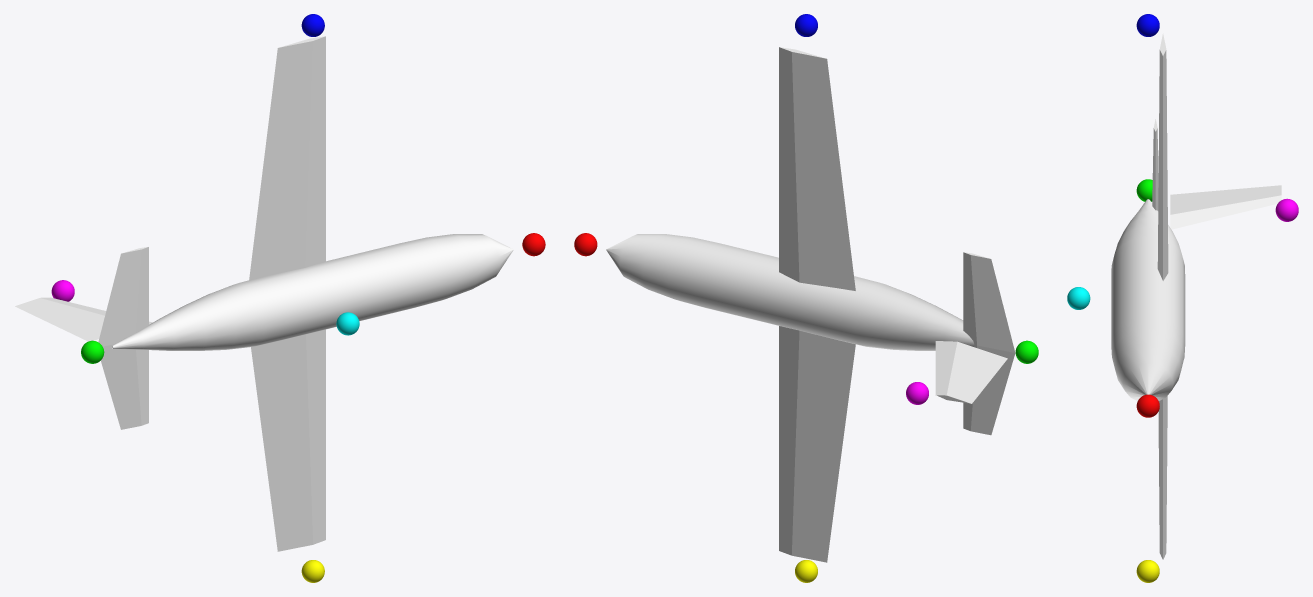
The model's file is CAL.glb.
3 renders of one model, left to right at view 1: azimuth 30°, elevation 25°; view 2: azimuth 150°, elevation 25°; view 3: azimuth 270°, elevation 25°, orthographic.
Size of the model in its own units: 11.54 by 13.5 by 5.
